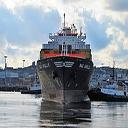Ships: (29, 10, 100, 106)
